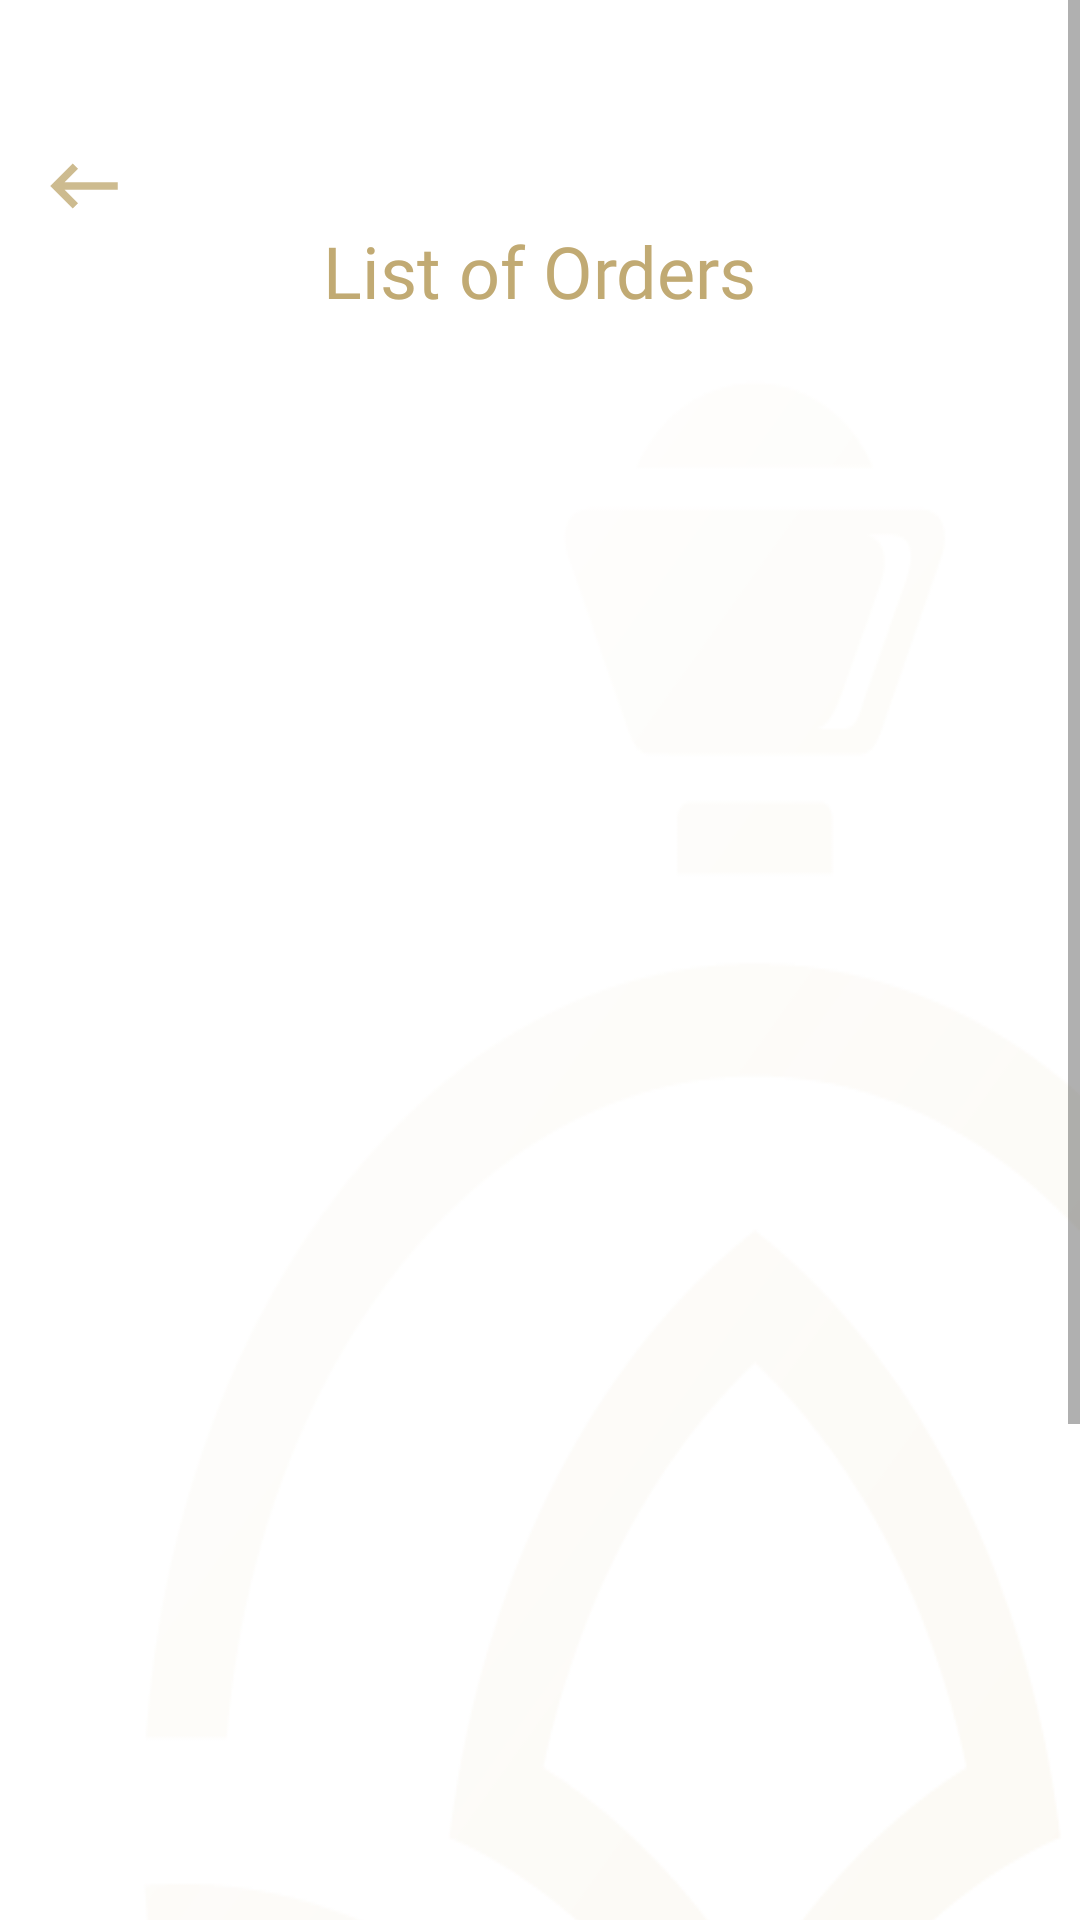

Where to tap for icons on this 1080 × 1920 app screen, as point (x, y):
back: point (84, 185)
